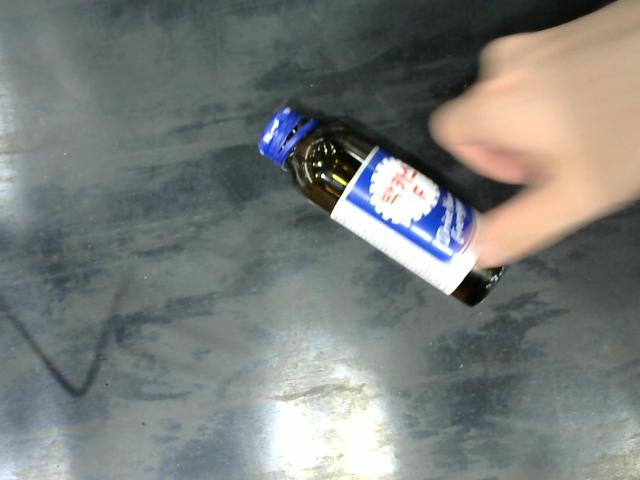glass: (262, 104, 526, 319)
